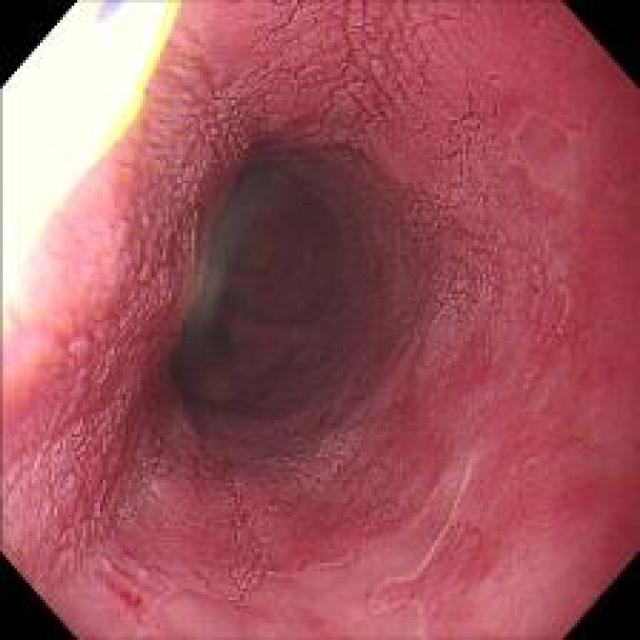contrast: (166, 149, 355, 415)
saturation: (2, 10, 171, 290)
